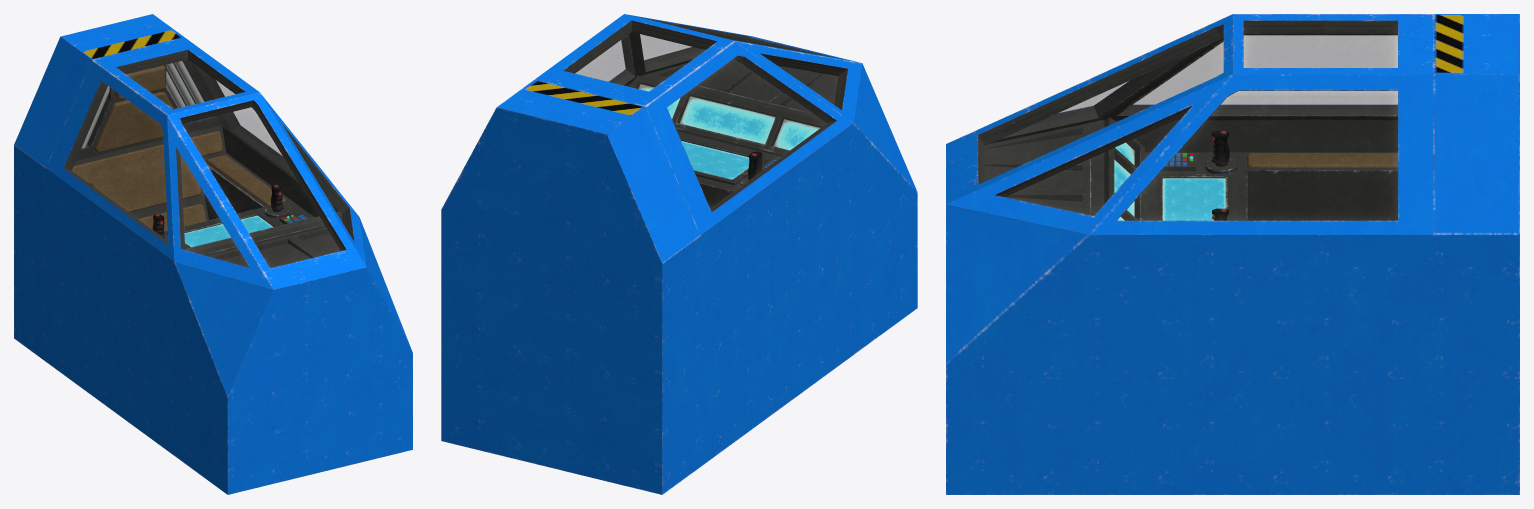
3 renders of one model, left to right at view 1: azimuth 30°, elevation 25°; view 2: azimuth 150°, elevation 25°; view 3: azimuth 270°, elevation 25°, orthographic. The views are drawn at different scales.
Parts seen in each view (by area): view 1: Body, CanopyGlass, CanopyFrame, Back_2, Neck, ArmRestL, Headrest, Back_1, LowerPipe; view 2: Body, CanopyFrame, CanopyGlass; view 3: Body, CanopyGlass, CanopyFrame, ArmRestR.
Boxes of the visible parts, box(x1,y1,x2,y2) form: Body: box(14, 14, 412, 494); CanopyGlass: box(68, 55, 348, 267); CanopyFrame: box(46, 37, 366, 289); Back_2: box(72, 131, 222, 212); Neck: box(94, 91, 173, 152); ArmRestL: box(207, 155, 285, 205); Headrest: box(114, 65, 165, 100); Back_1: box(138, 204, 206, 231); LowerPipe: box(81, 71, 185, 148); Body: box(441, 59, 917, 494); CanopyFrame: box(535, 14, 862, 234); CanopyGlass: box(570, 26, 842, 209); Body: box(946, 14, 1519, 494); CanopyGlass: box(981, 27, 1397, 219); CanopyFrame: box(946, 14, 1433, 234); ArmRestR: box(1247, 153, 1397, 167).
Bounding box in the file's own units: 1 × 1.5 × 2.
11 materials, 11 textured.
